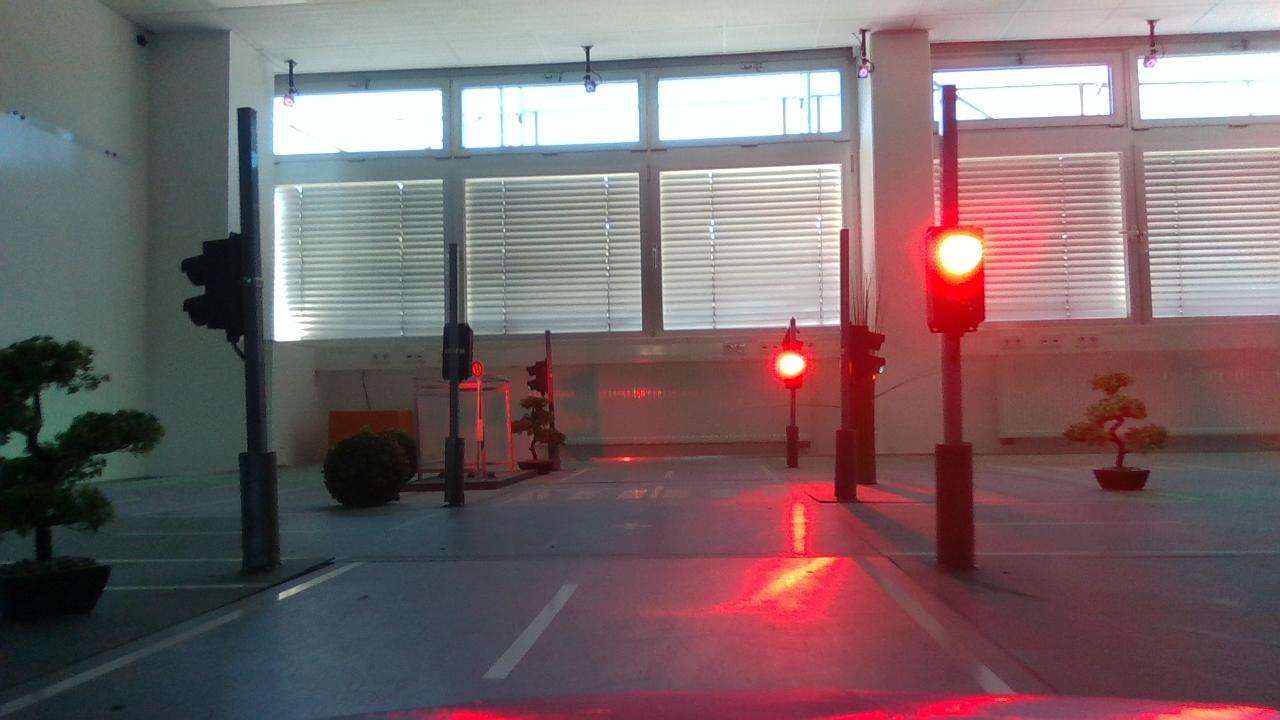traffic_light_red: (914, 215, 995, 343)
